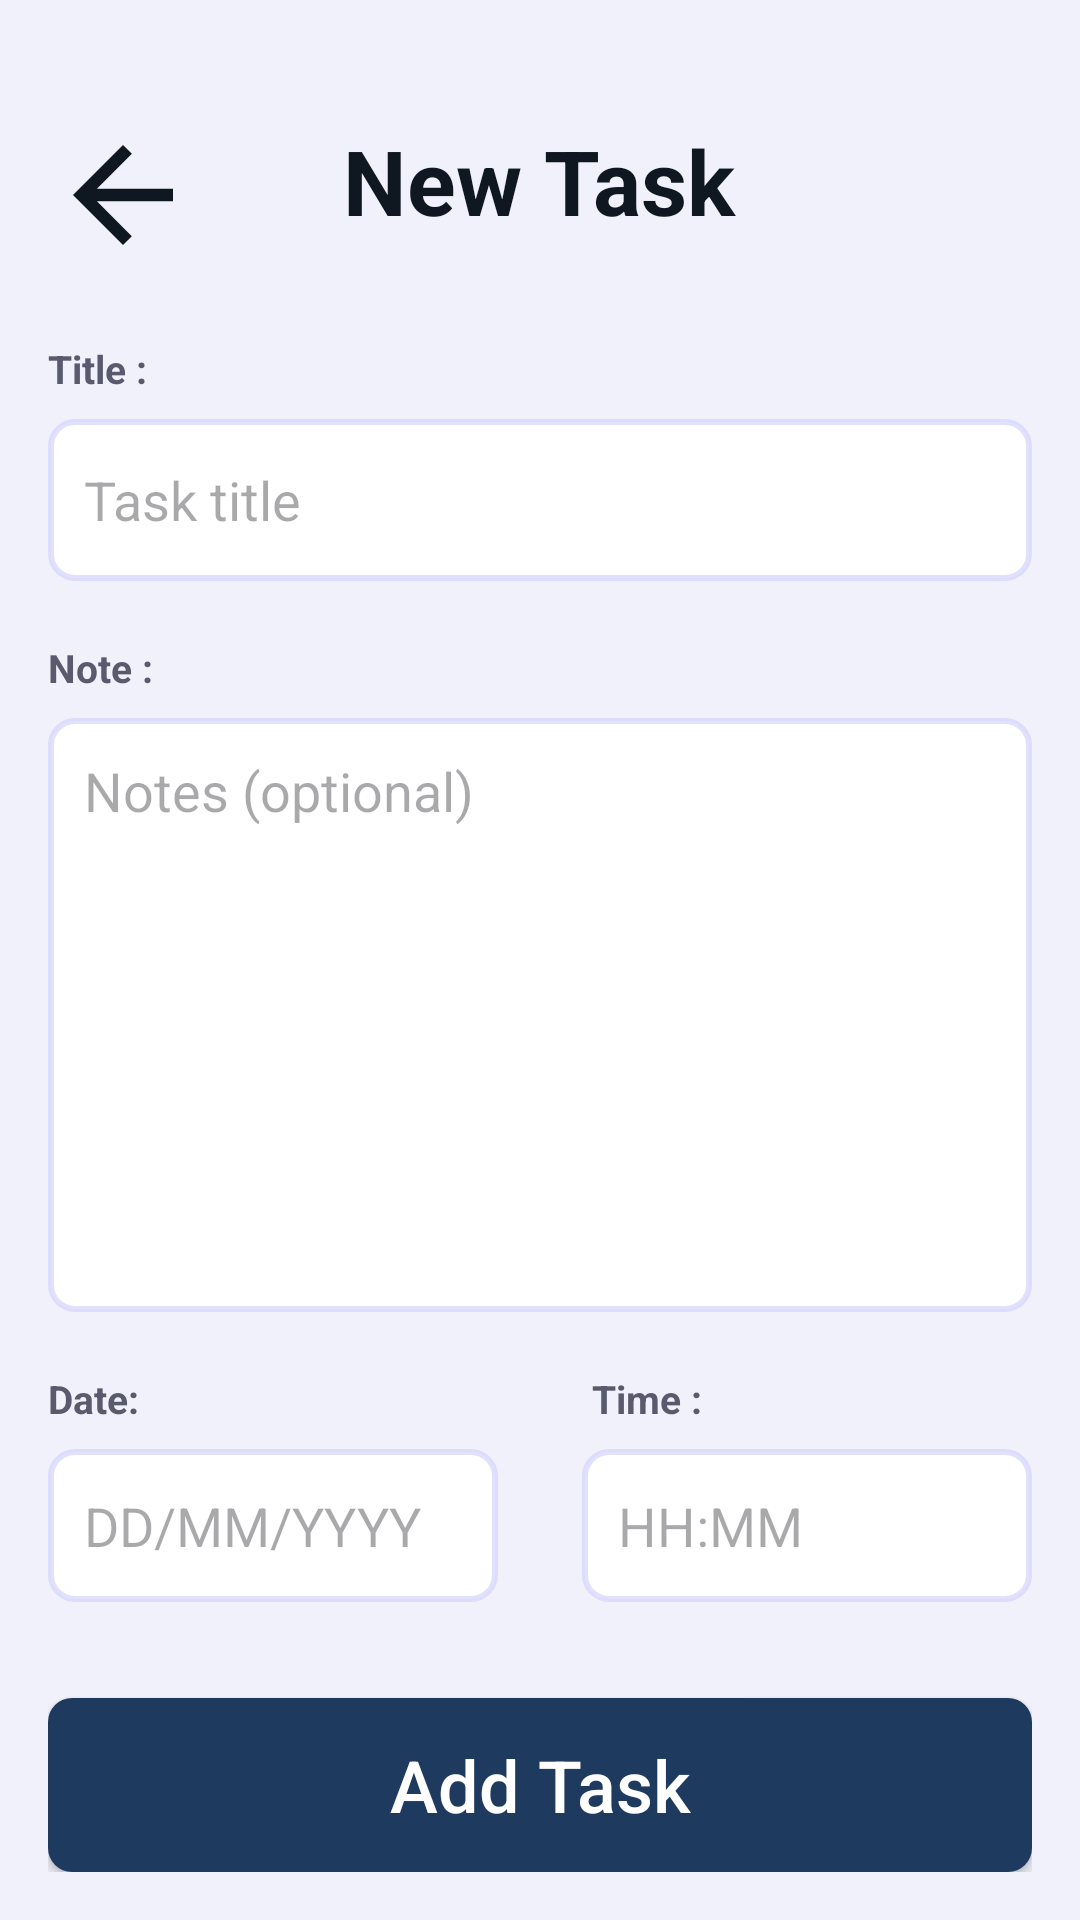

Icons on this 1080 x 1920 Android screen, each with its box as (x1, y1, x2, y2):
arrow back: (73, 145, 173, 245)
